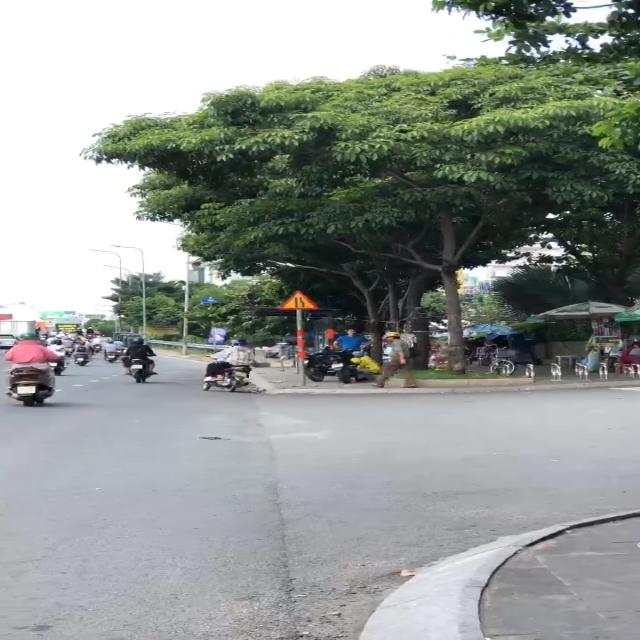Bien bao duong bi thu hep: (274, 285, 320, 311)
